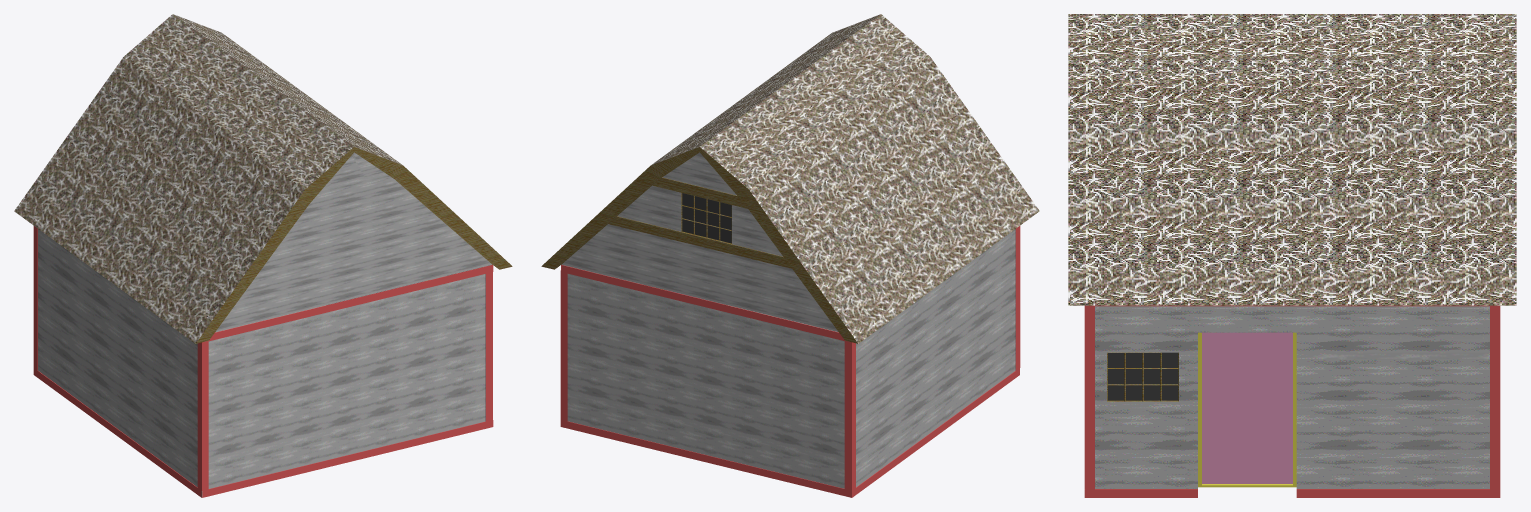
The model's file is cottage.fbx.
3 renders of one model, left to right at view 1: azimuth 30°, elevation 25°; view 2: azimuth 150°, elevation 25°; view 3: azimuth 270°, elevation 25°, orthographic. The views are drawn at different scales.
Parts seen in each view (by area): view 1: Cube.018; view 2: Cube.018; view 3: Cube.018.
Boxes of the visible parts, x1,y1,x2,y2 form: Cube.018: (14,14,512,497); Cube.018: (541,14,1039,497); Cube.018: (1068,14,1516,497).
Bounding box in the file's own units: 3279 × 3165 × 3247.
